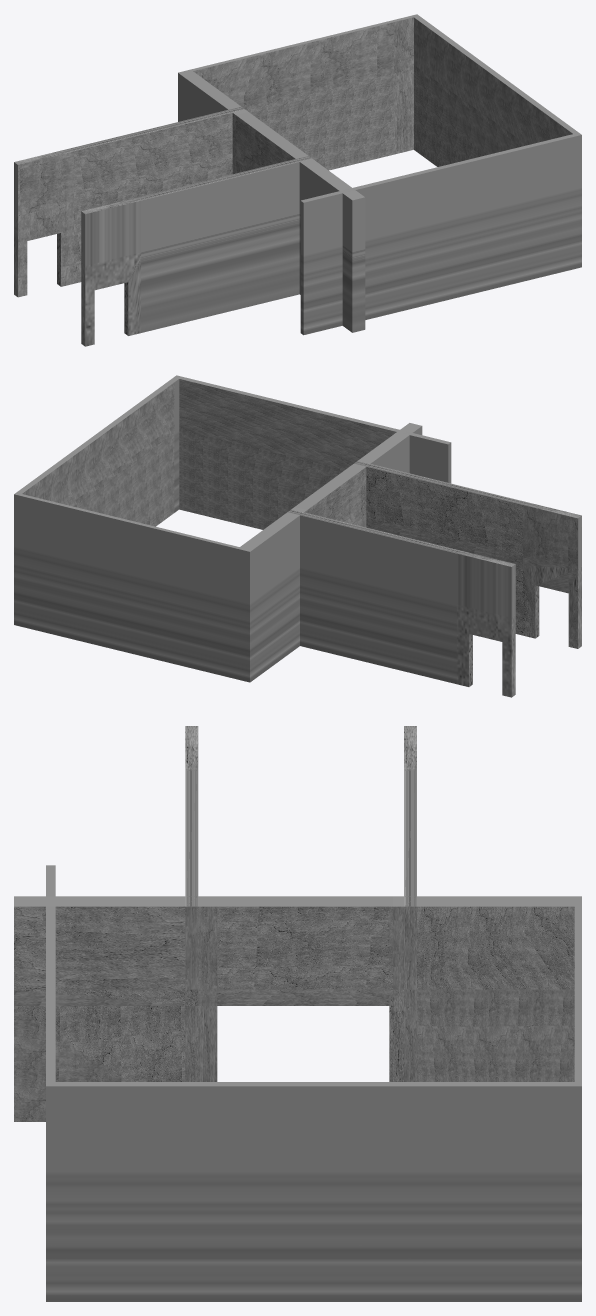
File: WALLNORM.fbx
3 views of the same model, one above another, from view 1: azimuth 30°, elevation 25°; view 2: azimuth 150°, elevation 25°; view 3: azimuth 270°, elevation 25° (orthographic). The views are drawn at different scales.
Visible parts, largest first — view 1: Cube.028; view 2: Cube.028; view 3: Cube.028.
Boxes of the visible parts, x1=… form: Cube.028: x1=14, y1=14, x2=581, y2=346; Cube.028: x1=14, y1=375, x2=581, y2=697; Cube.028: x1=14, y1=726, x2=581, y2=1301.
Bounding box in the file's own units: 7620 × 2126 × 5076.
